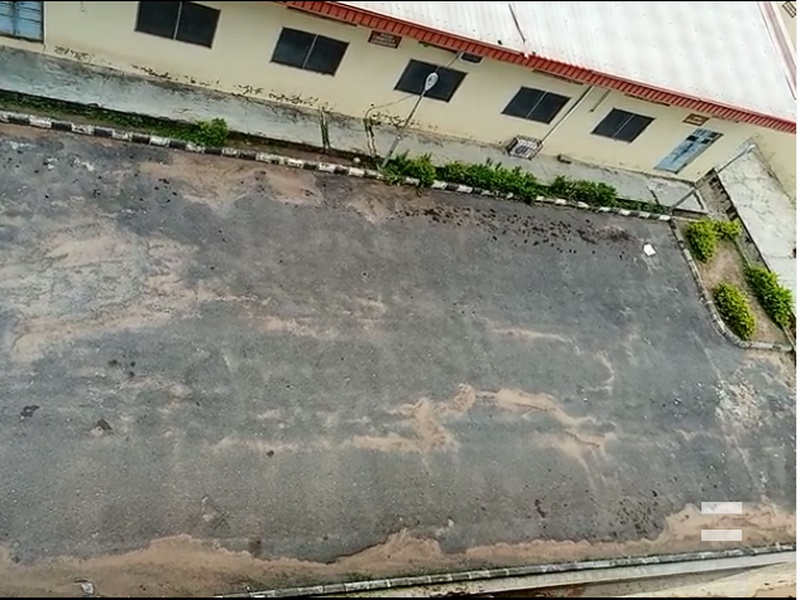five: (590, 180, 724, 351)
four: (446, 162, 539, 345)
three: (274, 149, 389, 342)
two: (101, 114, 230, 335)
